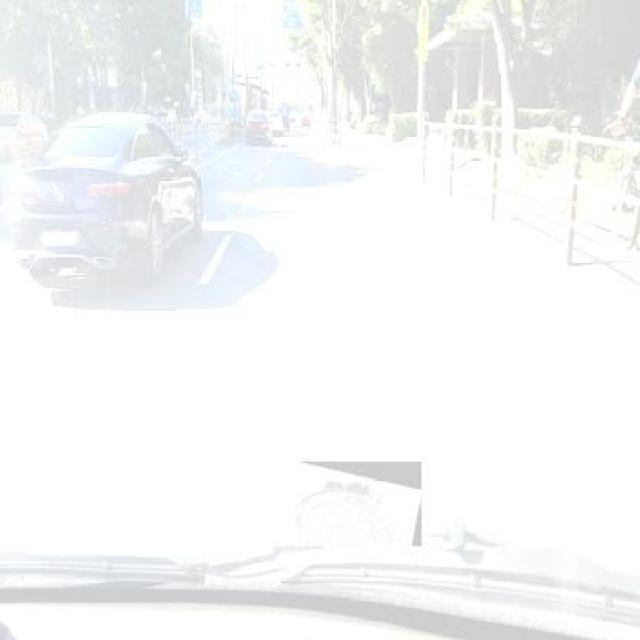Manhole: (296, 462, 422, 546)
Pothole: (423, 520, 505, 566)
